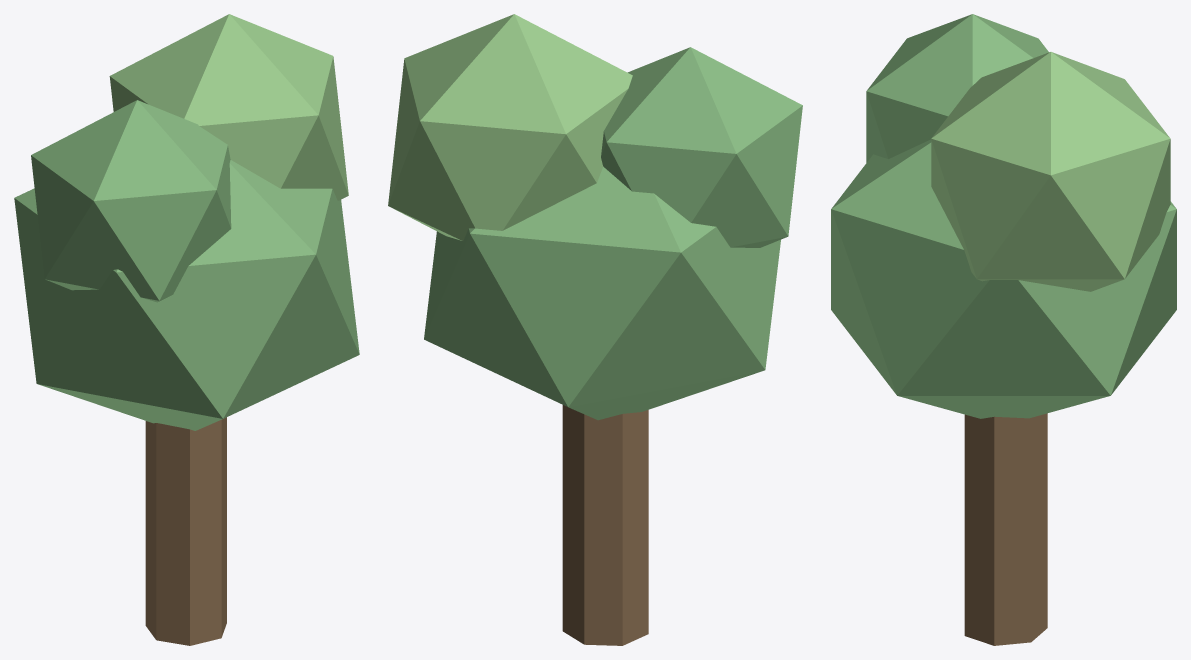
The model's file is Tree.fbx.
The picture shows the model from 3 angles, left to right: view 1: azimuth 30°, elevation 25°; view 2: azimuth 150°, elevation 25°; view 3: azimuth 270°, elevation 25°; orthographic projection. The views are drawn at different scales.
Visible parts, largest first — view 1: Foliage1, Foliage3, Foliage2, Trunk; view 2: Foliage1, Foliage2, Foliage3, Trunk; view 3: Foliage1, Foliage2, Trunk, Foliage3.
Part boxes in pixels (box(x1,y1,x2,y2)): Foliage1: box(14, 160, 359, 430); Foliage3: box(31, 100, 231, 302); Foliage2: box(109, 14, 348, 200); Trunk: box(145, 417, 226, 645); Foliage1: box(424, 167, 780, 420); Foliage2: box(388, 14, 632, 240); Foliage3: box(601, 47, 802, 247); Trunk: box(562, 405, 648, 645); Foliage1: box(831, 139, 1176, 418); Foliage2: box(931, 52, 1170, 291); Trunk: box(964, 413, 1047, 645); Foliage3: box(866, 14, 1048, 162).
Bounding box in the file's own units: 252 × 430 × 221.
